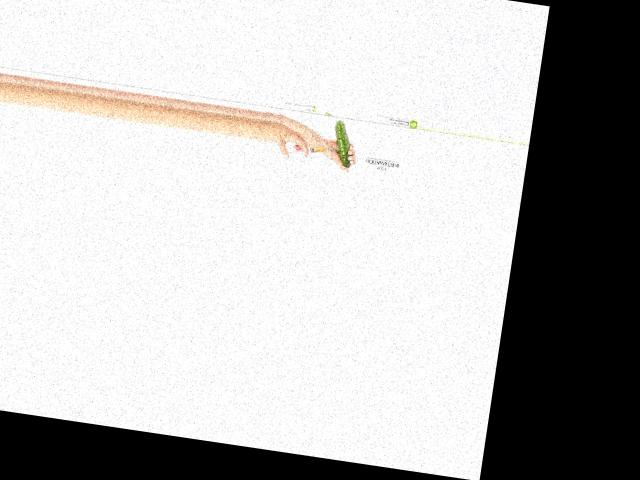cucumber: (329, 119, 356, 168)
